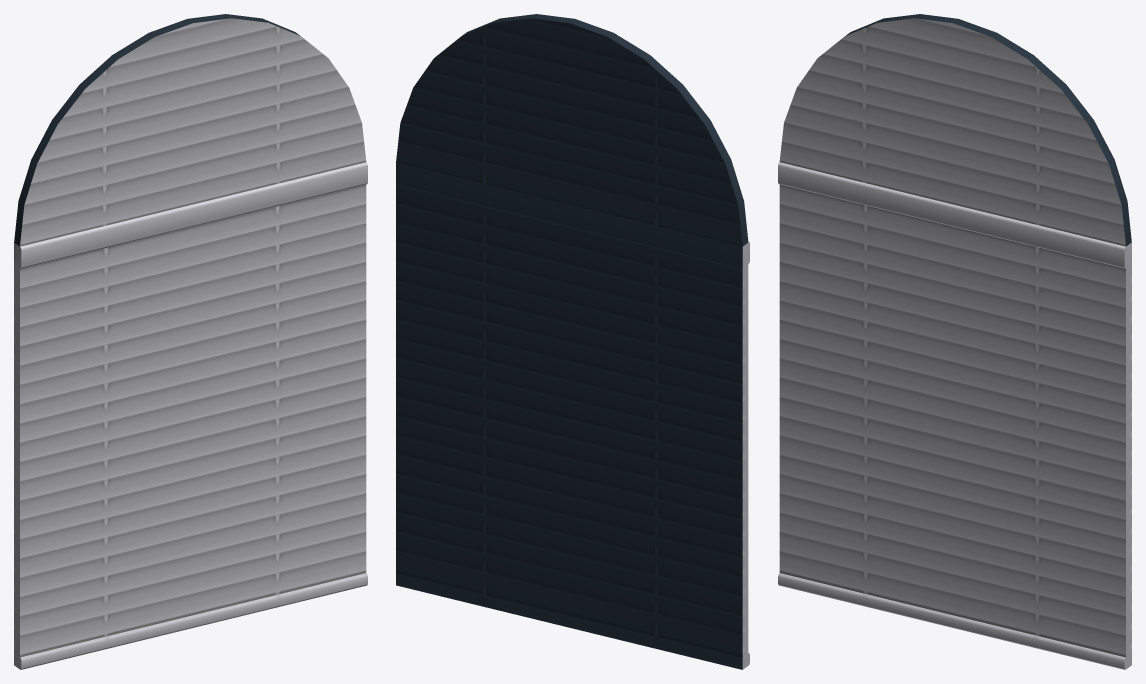
File: PropBlinds01TypeH_1.FBX
3 views of the same model, side by side, from view 1: azimuth 30°, elevation 25°; view 2: azimuth 150°, elevation 25°; view 3: azimuth 330°, elevation 25° (orthographic).
Visible parts, largest first — view 1: PropBlinds01TypeH_1; view 2: PropBlinds01TypeH_1; view 3: PropBlinds01TypeH_1.
Boxes of the visible parts, x1,y1,x2,y2 form: PropBlinds01TypeH_1: (14, 14, 367, 669); PropBlinds01TypeH_1: (396, 14, 749, 669); PropBlinds01TypeH_1: (778, 14, 1131, 669).
Size of what is drawn, in the model's own units: 1.5 by 2.5 by 0.055.
